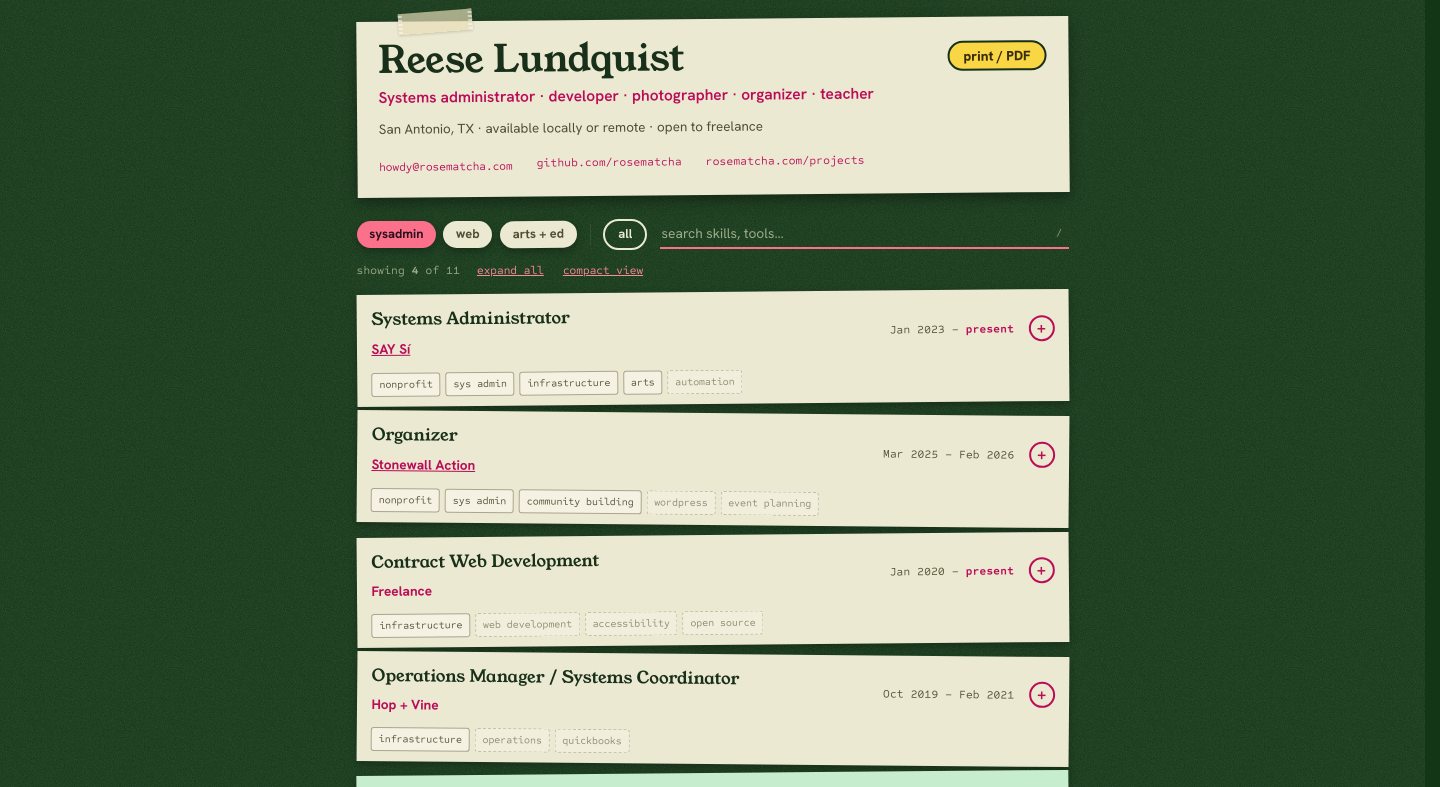
Test: ResumePage ordering › leads with the current systems role and ends with the earliest job
What coordinates should you click on to do the following:
click the button "all"
I would click on:
 (625, 234)
Its box is x1=604 y1=219 x2=647 y2=250.
(page scrolled)
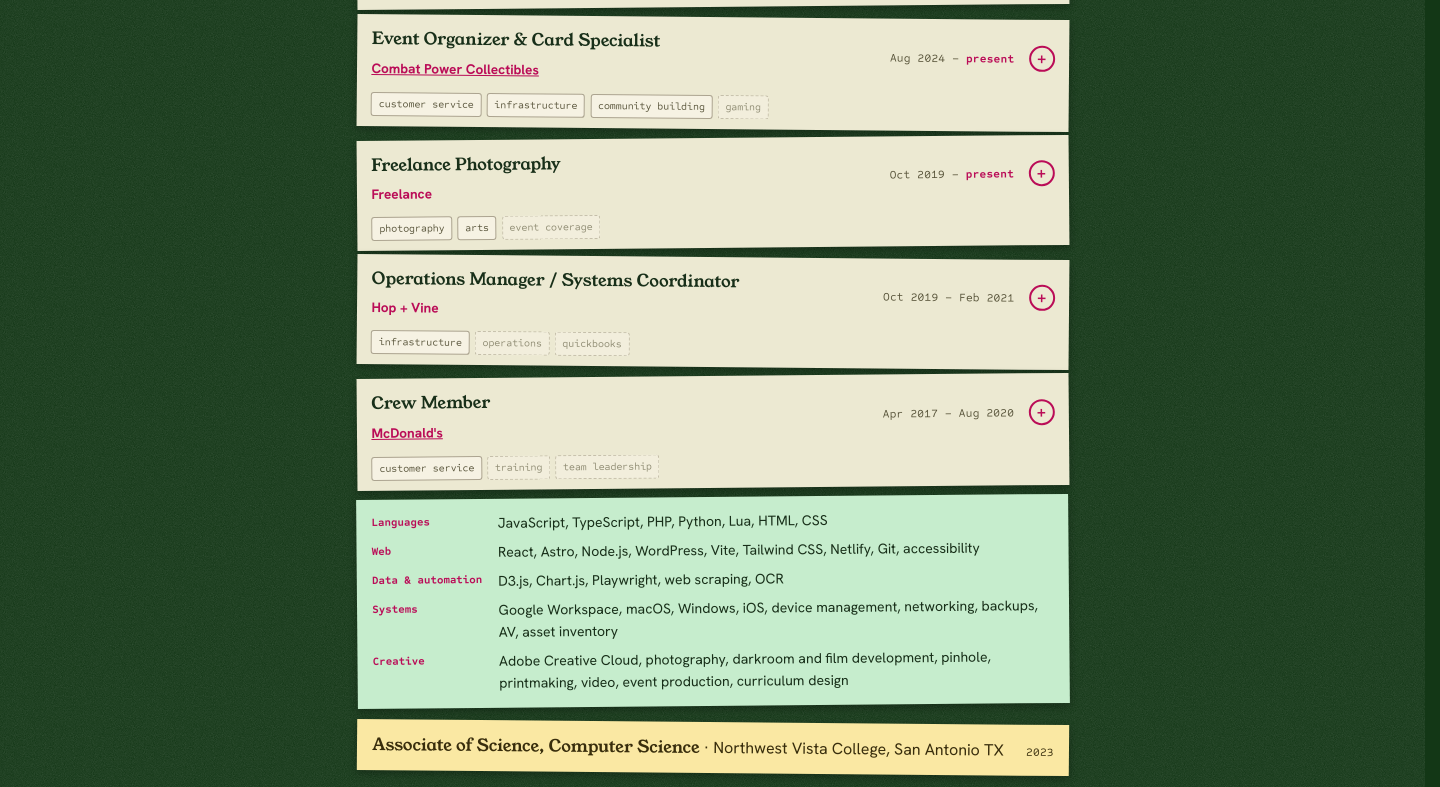
Check: the text with class "resume-entry__title" reads "Crew Member", box x1=370 y1=390 x2=490 y2=415
